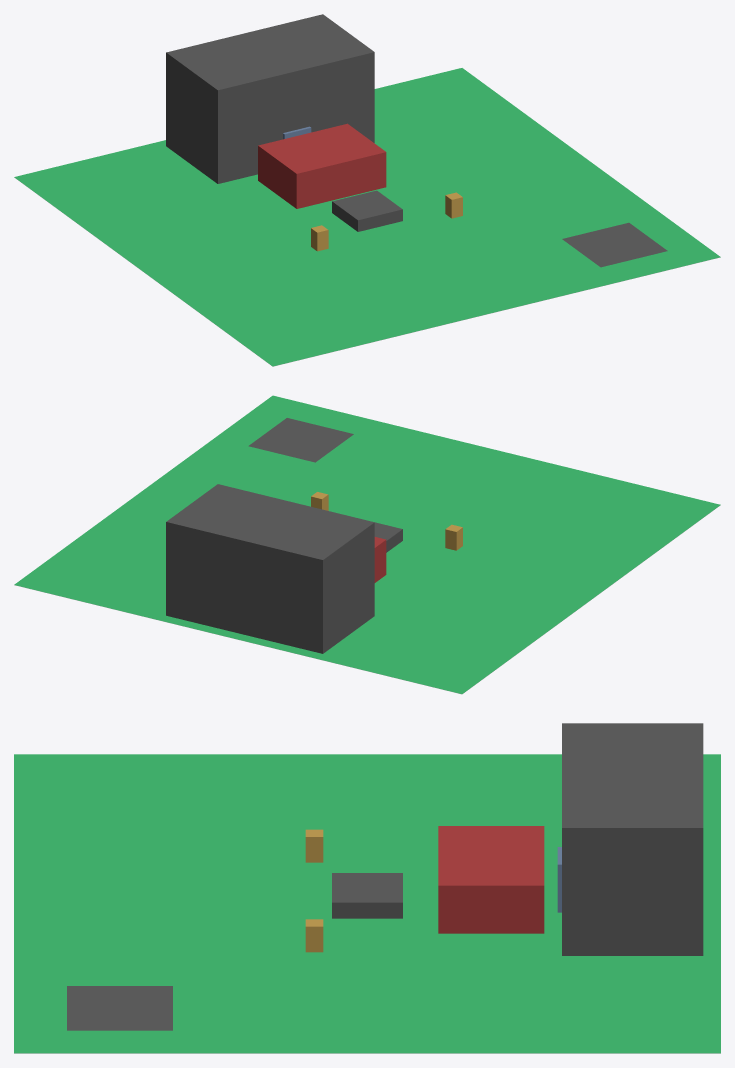
Rendered from plaza.glb.
3 views of the same model, one above another, from view 1: azimuth 30°, elevation 25°; view 2: azimuth 150°, elevation 25°; view 3: azimuth 270°, elevation 25° (orthographic). The views are drawn at different scales.
Visible parts, largest first — view 1: nav_walkable, blockout_factory, zone_factory_approach, plot_lot_01, blockout_fountain; view 2: nav_walkable, blockout_factory, plot_lot_01, blockout_ground, zone_factory_approach, blockout_fountain; view 3: nav_walkable, blockout_factory, zone_factory_approach, plot_lot_01, blockout_fountain, blockout_ground, hotspot_info_kiosk, hotspot_store_link.
Boxes of the visible parts, x1,y1,x2,y2 form: nav_walkable: [14, 68, 720, 366]; blockout_factory: [166, 14, 374, 183]; zone_factory_approach: [258, 123, 386, 208]; plot_lot_01: [562, 222, 667, 267]; blockout_fountain: [332, 190, 402, 231]; nav_walkable: [14, 395, 720, 693]; blockout_factory: [166, 484, 374, 653]; plot_lot_01: [248, 418, 353, 462]; blockout_ground: [14, 505, 720, 694]; zone_factory_approach: [374, 537, 386, 582]; blockout_fountain: [374, 522, 402, 552]; nav_walkable: [14, 754, 720, 1053]; blockout_factory: [562, 723, 703, 955]; zone_factory_approach: [438, 826, 544, 933]; plot_lot_01: [67, 986, 172, 1030]; blockout_fountain: [332, 873, 402, 918]; blockout_ground: [14, 1053, 720, 1053]; hotspot_info_kiosk: [305, 829, 323, 862]; hotspot_store_link: [305, 919, 323, 952].
Size of what is drawn, in the model's own units: 40 by 8.02 by 40.
